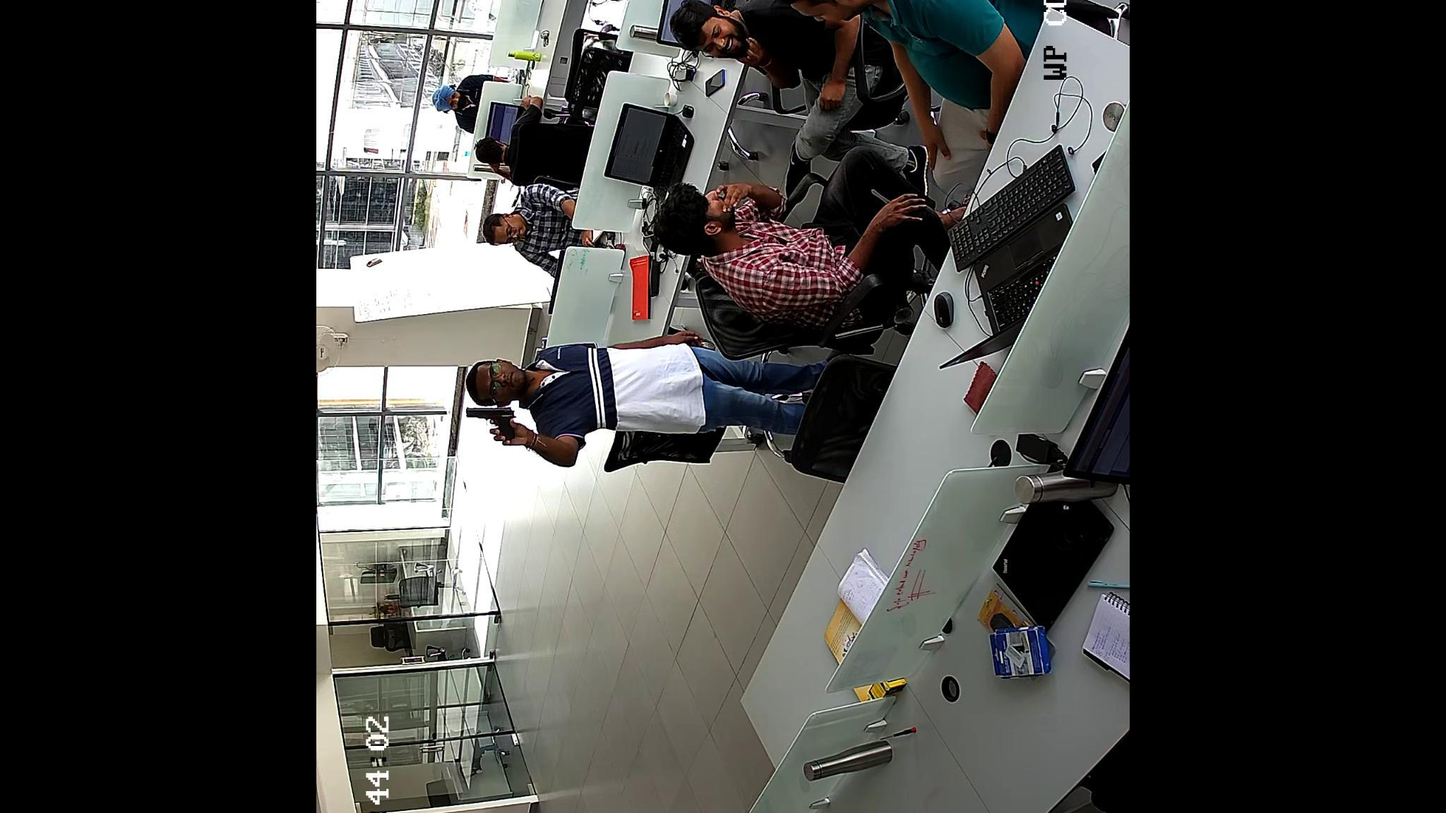gun: (466, 406, 517, 439)
